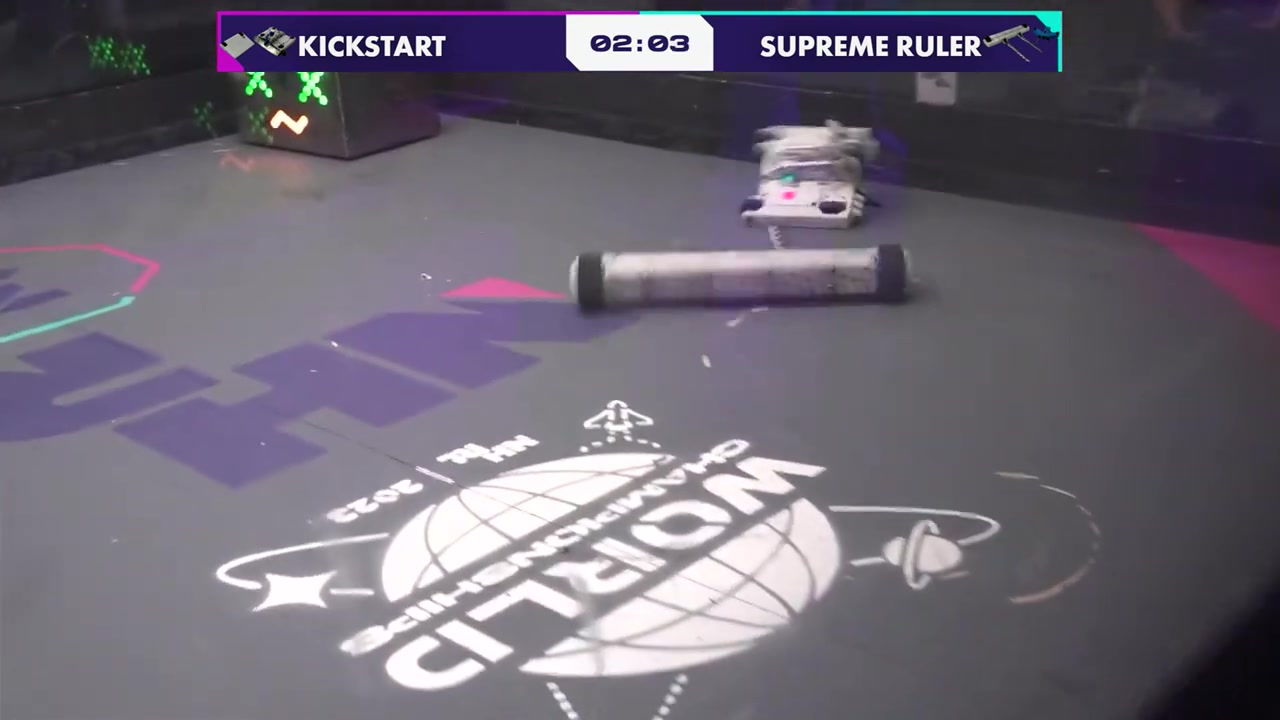combatbot: (597, 249, 879, 299), (758, 126, 862, 228)
housebot: (236, 73, 439, 160)
